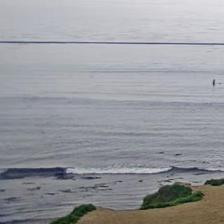surfer: (212, 79, 215, 86)
